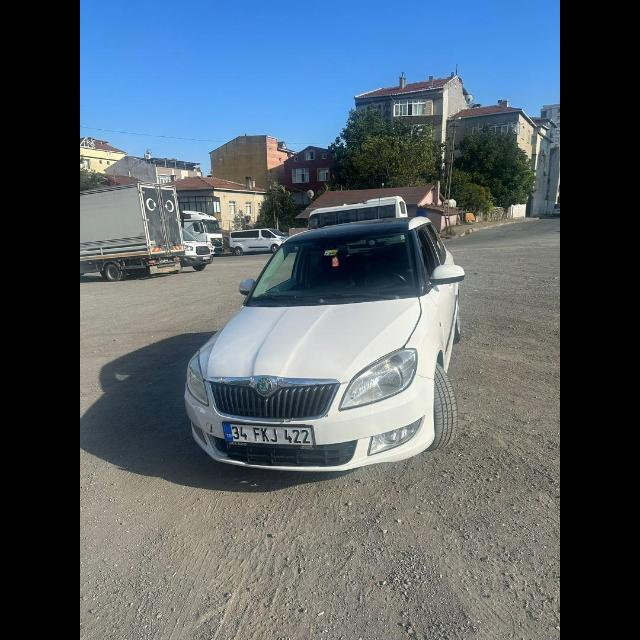Plaka: (224, 422, 314, 446)
